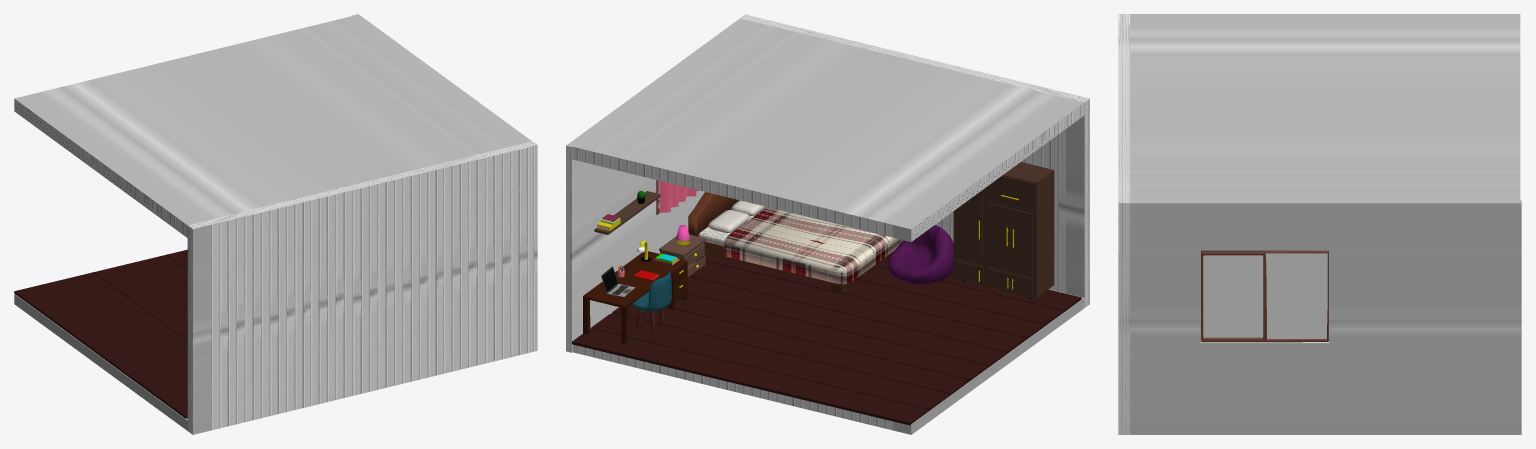
Rendered from habitacion-nueva.fbx.
3 renders of one model, left to right at view 1: azimuth 30°, elevation 25°; view 2: azimuth 150°, elevation 25°; view 3: azimuth 270°, elevation 25°, orthographic. The views are drawn at different scales.
Parts seen in each view (by area): view 1: Cuarto, piso; view 2: Cuarto, piso, armario, cobija, escritorio, puf, baranda, mesa de noche, silla, cortina.003, base cama, repisa1 (+1 smaller); view 3: Cuarto, vidrio1, vidrio, ventana, ventana.005.
Boxes of the visible parts, box(x1,y1,x2,y2) form: Cuarto: box(14, 14, 537, 434); piso: box(14, 249, 187, 418); Cuarto: box(566, 14, 1089, 434); piso: box(572, 253, 1081, 425); armario: box(953, 162, 1054, 297); cobija: box(724, 207, 901, 284); escritorio: box(583, 251, 687, 343); puf: box(888, 225, 953, 284); baranda: box(688, 192, 738, 236); mesa de noche: box(659, 234, 705, 277); silla: box(631, 271, 671, 311); cortina.003: box(659, 181, 696, 212); base cama: box(704, 241, 893, 293); repisa1: box(594, 191, 660, 234); Cuarto: box(1118, 14, 1521, 434); vidrio1: box(1265, 253, 1327, 338); vidrio: box(1203, 255, 1263, 337); ventana: box(1201, 251, 1265, 342); ventana.005: box(1265, 250, 1328, 342).
Bounding box in the file's own units: 1421 × 812 × 1279.
74 materials, 5 textured.
